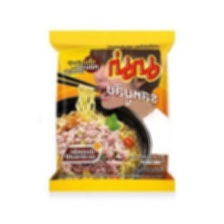snack: (43, 23, 181, 196)
